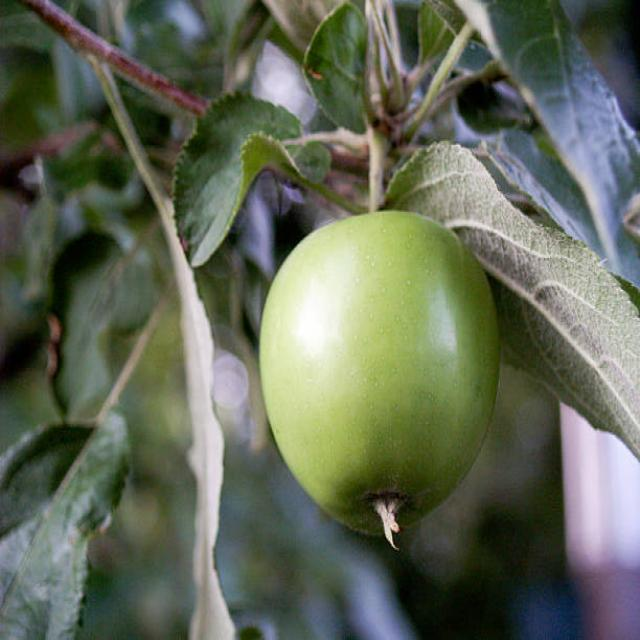Unripe: (260, 208, 502, 556)
